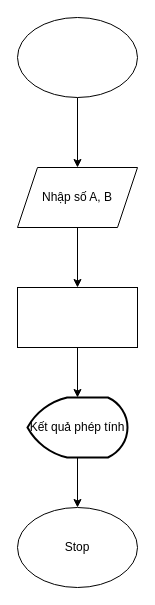
Some shapes in this 155 by 605 pixel diagram are drawn without their labels. The centre of each missing label's shape, as x and y in pixels:
"A + B" belongs at [77,317].
"Start" belongs at [77,57].
